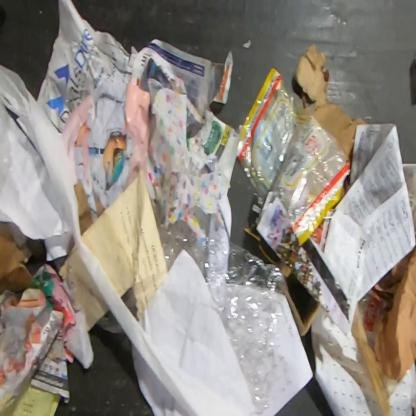cardboard: (294, 43, 369, 167), (0, 221, 34, 297), (74, 182, 94, 234), (93, 190, 105, 218), (67, 234, 75, 255)
soft_plastic: (158, 219, 291, 415), (236, 66, 352, 248)
